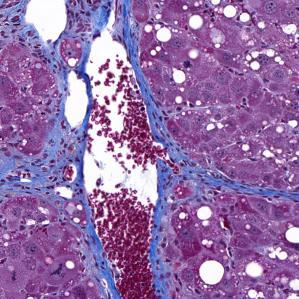fibrosis: (159, 148, 239, 204), (27, 125, 84, 202)
